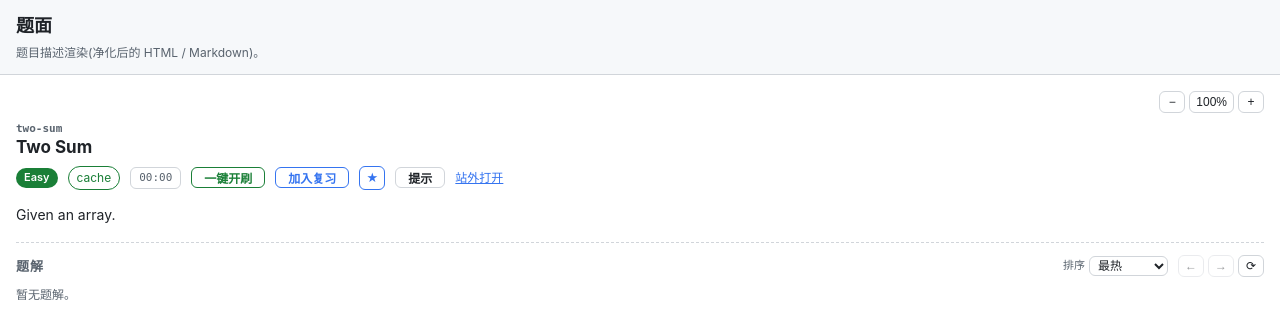
Test: problem-view favorite star (WP73) › starts solid from localStorage memory and removes the memory on toggle-off
Click the button with class "statement-header__fav" at (372,178), box [359,166,385,190]
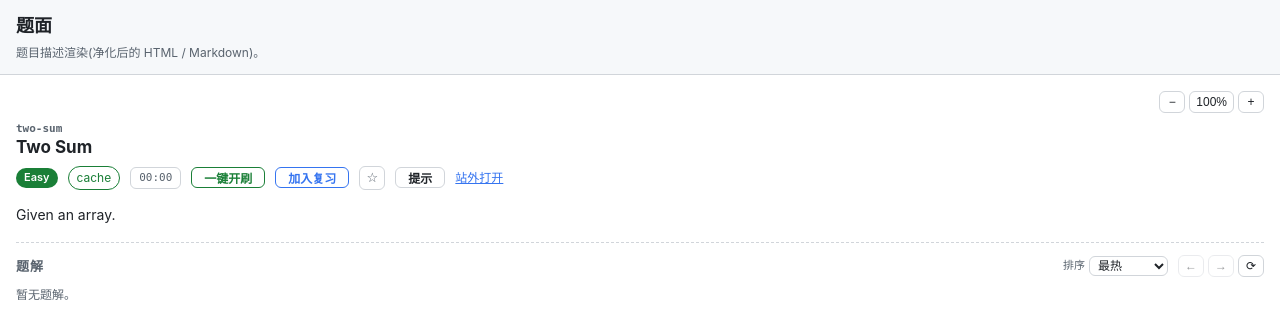
Expected: the button with class "statement-header__fav" reads "☆", [359,166,385,190]
